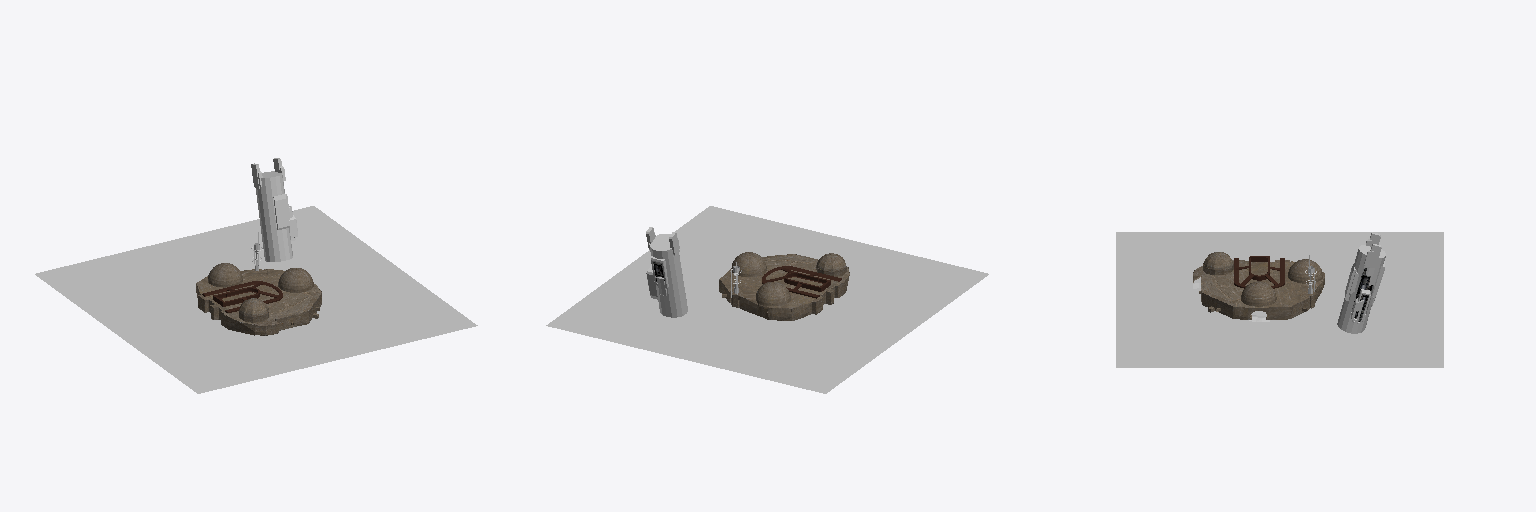
3 renders of one model, left to right at view 1: azimuth 30°, elevation 25°; view 2: azimuth 150°, elevation 25°; view 3: azimuth 270°, elevation 25°, orthographic.
Visible parts, largest first — view 1: Plane.005, Mesh_0090_Mesh_0090Mesh, Mesh_0342_Mesh_0342Mesh, Sphere.001, Sphere; view 2: Plane.005, Mesh_0090_Mesh_0090Mesh, Mesh_0342_Mesh_0342Mesh, Sphere, Sphere.001; view 3: Plane.005, Mesh_0090_Mesh_0090Mesh, Mesh_0342_Mesh_0342Mesh, Sphere.001, Sphere.
Part boxes in pixels (x1,y1,x2,y2): Plane.005: (35, 206, 477, 393); Mesh_0090_Mesh_0090Mesh: (196, 269, 321, 335); Mesh_0342_Mesh_0342Mesh: (251, 158, 297, 261); Sphere.001: (278, 268, 313, 292); Sphere: (208, 263, 242, 287); Plane.005: (546, 206, 988, 393); Mesh_0090_Mesh_0090Mesh: (719, 254, 849, 320); Mesh_0342_Mesh_0342Mesh: (646, 227, 687, 317); Sphere: (756, 282, 790, 305); Sphere.001: (731, 252, 766, 276); Plane.005: (1116, 232, 1443, 367); Mesh_0090_Mesh_0090Mesh: (1193, 260, 1324, 321); Mesh_0342_Mesh_0342Mesh: (1337, 232, 1385, 333); Sphere.001: (1241, 281, 1276, 306); Sphere: (1288, 259, 1322, 283).
Size of the model in its own units: 26.66 by 8.41 by 27.09.
Materials: 12 (8 with a texture image).